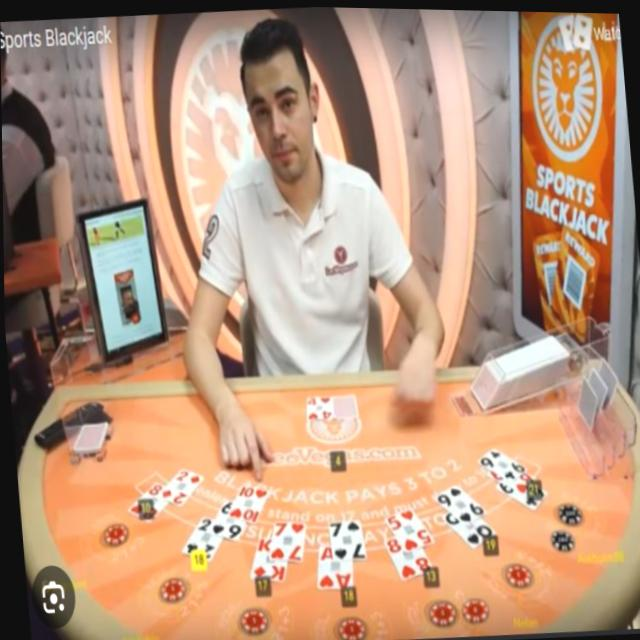Card-10: (227, 483, 268, 520)
Card-2: (181, 514, 220, 560), (158, 467, 201, 505)
Card-4: (305, 395, 333, 417)
Card-5: (383, 504, 433, 550)
Card-6: (209, 498, 244, 540), (495, 479, 546, 507), (487, 468, 535, 491)
Card-7: (328, 518, 364, 557), (270, 520, 303, 560)
Card-8: (383, 535, 431, 578), (126, 481, 168, 521)
Card-9: (433, 481, 484, 521), (477, 445, 525, 481)
Card-A: (316, 545, 352, 587)
Card-K: (249, 535, 284, 579)
Card-Q: (441, 511, 493, 545)
